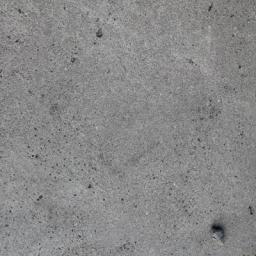FOD: (206, 225, 230, 252)
